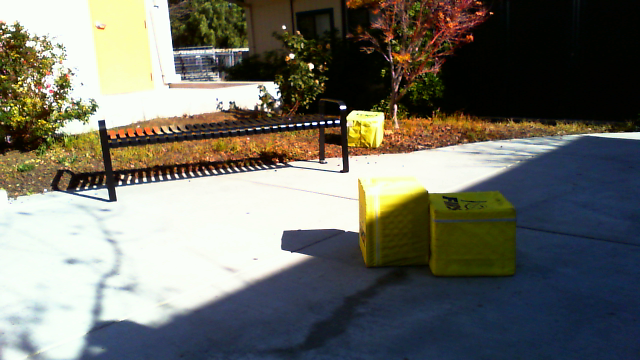cube: (425, 190, 518, 276), (357, 176, 429, 266), (344, 109, 384, 148)
